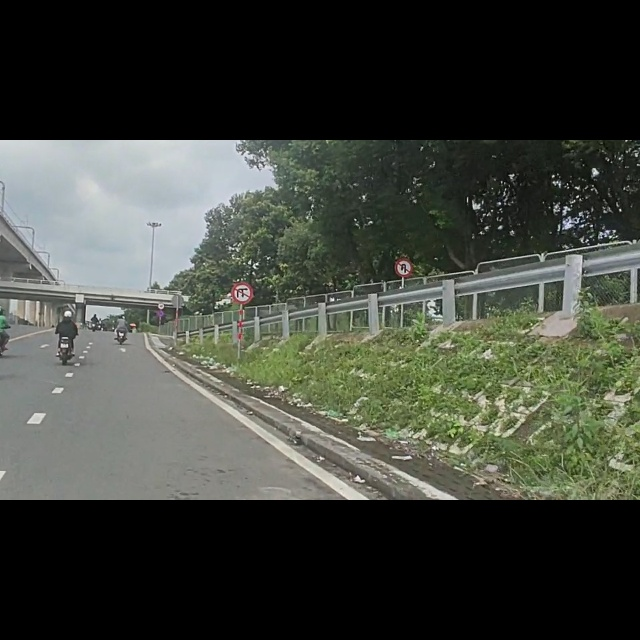bien_cam: (231, 252, 254, 292), (394, 210, 413, 243), (157, 303, 165, 315), (158, 289, 165, 301)
